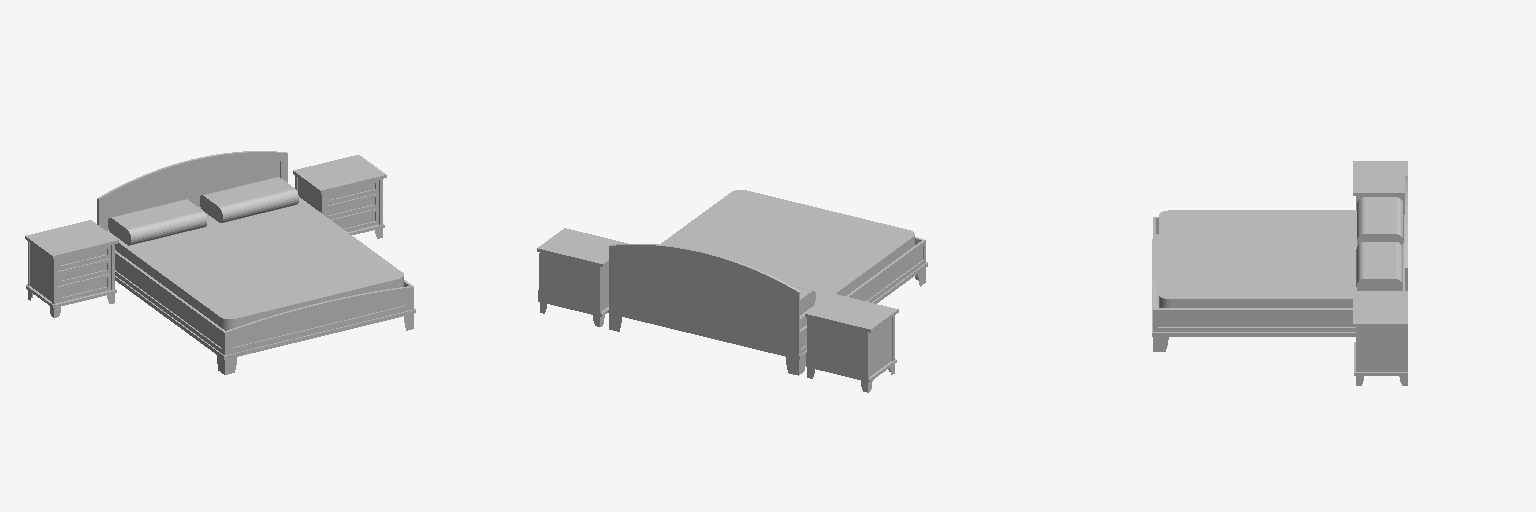
Rendered from bedRed.obj.
3 renders of one model, left to right at view 1: azimuth 30°, elevation 25°; view 2: azimuth 150°, elevation 25°; view 3: azimuth 270°, elevation 25°, orthographic.
Visible parts, largest first — view 1: Mesh8 Group9 Group1 kingbed1 Model, Mesh7 Group6 Group1 kingbed1 Model, Mesh1 Group2 Group1 kingbed1 Model, Mesh3 Group4 Group1 kingbed1 Model, Mesh2 Group3 Group1 kingbed1 Model, Mesh4 Group5 Group1 kingbed1 Model; view 2: Mesh7 Group6 Group1 kingbed1 Model, Mesh8 Group9 Group1 kingbed1 Model, Mesh1 Group2 Group1 kingbed1 Model, Mesh3 Group4 Group1 kingbed1 Model; view 3: Mesh8 Group9 Group1 kingbed1 Model, Mesh7 Group6 Group1 kingbed1 Model, Mesh3 Group4 Group1 kingbed1 Model, Mesh2 Group3 Group1 kingbed1 Model, Mesh4 Group5 Group1 kingbed1 Model, Mesh1 Group2 Group1 kingbed1 Model.
Boxes of the visible parts, x1=… form: Mesh8 Group9 Group1 kingbed1 Model: x1=108, y1=197, x2=403, y2=330; Mesh7 Group6 Group1 kingbed1 Model: x1=97, y1=151, x2=415, y2=359; Mesh1 Group2 Group1 kingbed1 Model: x1=25, y1=220, x2=118, y2=317; Mesh3 Group4 Group1 kingbed1 Model: x1=293, y1=155, x2=386, y2=238; Mesh2 Group3 Group1 kingbed1 Model: x1=200, y1=177, x2=298, y2=222; Mesh4 Group5 Group1 kingbed1 Model: x1=108, y1=199, x2=206, y2=245; Mesh7 Group6 Group1 kingbed1 Model: x1=608, y1=237, x2=927, y2=359; Mesh8 Group9 Group1 kingbed1 Model: x1=660, y1=190, x2=914, y2=328; Mesh1 Group2 Group1 kingbed1 Model: x1=805, y1=293, x2=898, y2=392; Mesh3 Group4 Group1 kingbed1 Model: x1=537, y1=228, x2=627, y2=326; Mesh8 Group9 Group1 kingbed1 Model: x1=1159, y1=210, x2=1404, y2=307; Mesh7 Group6 Group1 kingbed1 Model: x1=1152, y1=176, x2=1407, y2=351; Mesh3 Group4 Group1 kingbed1 Model: x1=1353, y1=291, x2=1407, y2=385; Mesh2 Group3 Group1 kingbed1 Model: x1=1356, y1=242, x2=1402, y2=290; Mesh4 Group5 Group1 kingbed1 Model: x1=1357, y1=197, x2=1403, y2=245; Mesh1 Group2 Group1 kingbed1 Model: x1=1353, y1=161, x2=1407, y2=214.
Size of the model in its own units: 3.35 by 0.9529 by 2.23.